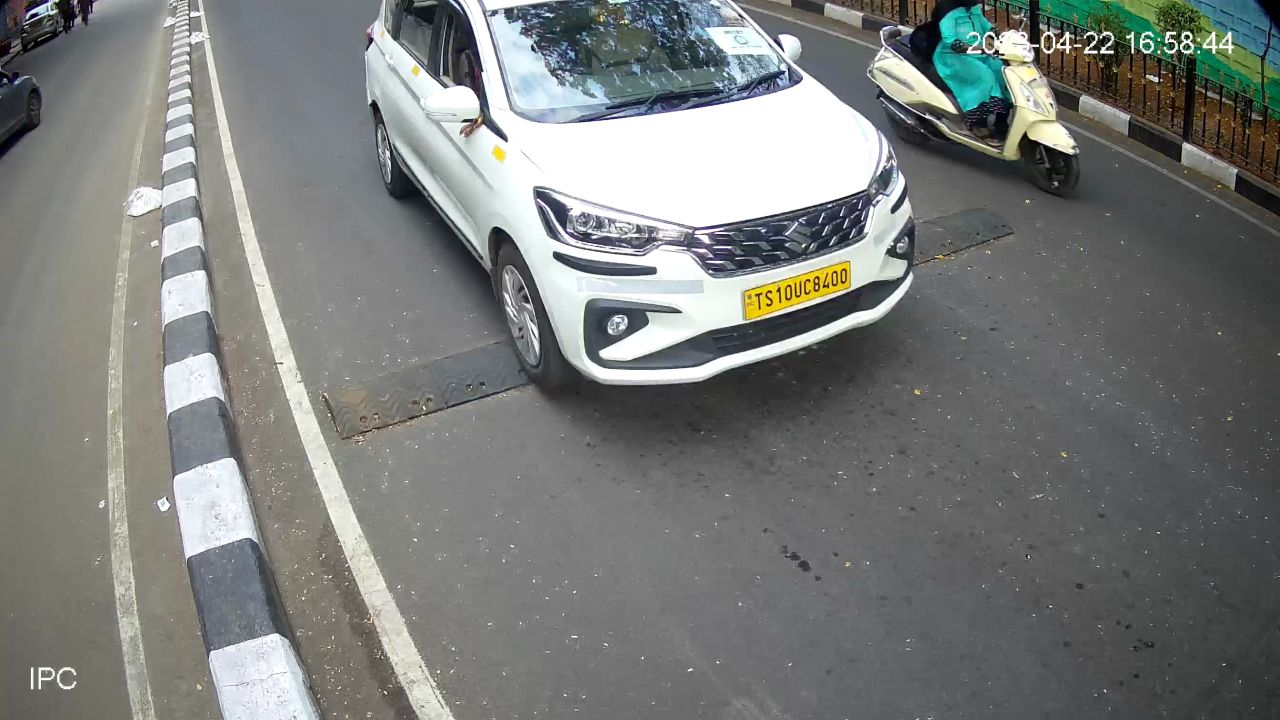license_plate: (736, 255, 858, 326)
